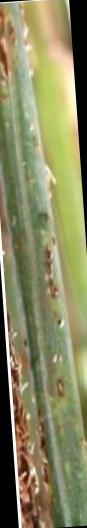Wheat: (17, 434, 53, 528), (13, 330, 31, 427), (40, 234, 59, 307), (0, 8, 15, 85), (55, 369, 68, 404)
